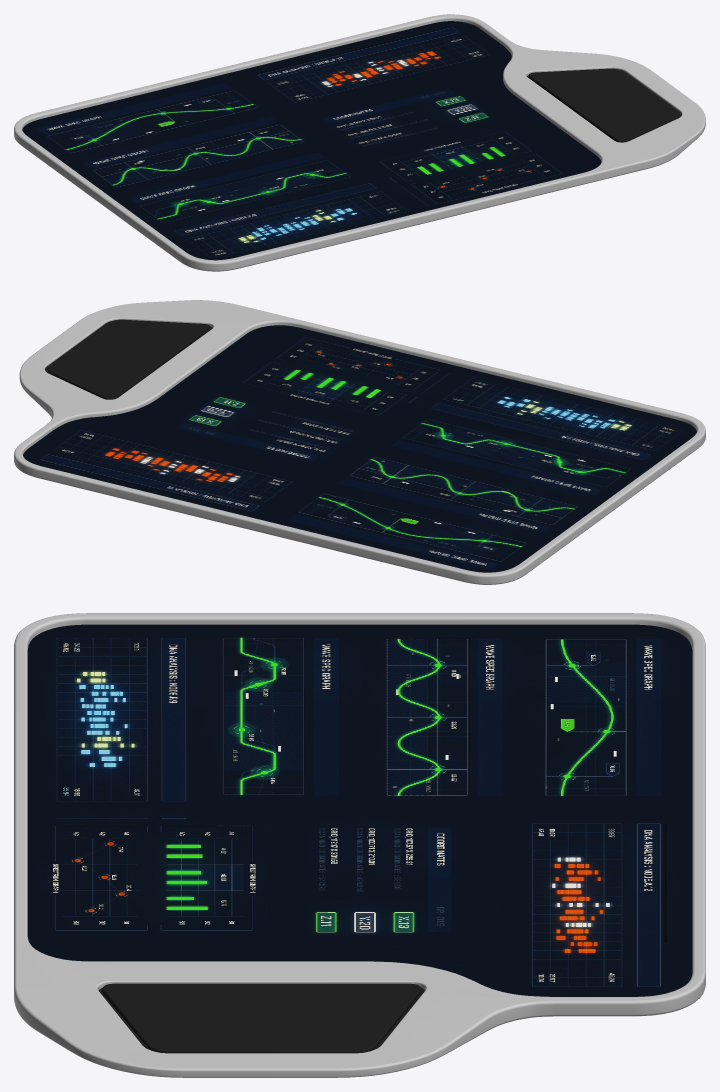
Rendered from Sci Fi Tablet OBJ.obj.
3 views of the same model, one above another, from view 1: azimuth 30°, elevation 25°; view 2: azimuth 150°, elevation 25°; view 3: azimuth 270°, elevation 25° (orthographic). The views are drawn at different scales.
Parts seen in each view (by area): view 1: Sci-fi_Tablet; view 2: Sci-fi_Tablet; view 3: Sci-fi_Tablet.
Boxes of the visible parts, bbox=[...] form: Sci-fi_Tablet: bbox=[14, 14, 705, 271]; Sci-fi_Tablet: bbox=[14, 300, 705, 584]; Sci-fi_Tablet: bbox=[14, 613, 705, 1077].
Bounding box in the file's own units: 0.3114 × 0.0051 × 0.2005.
4 materials, 1 textured.
